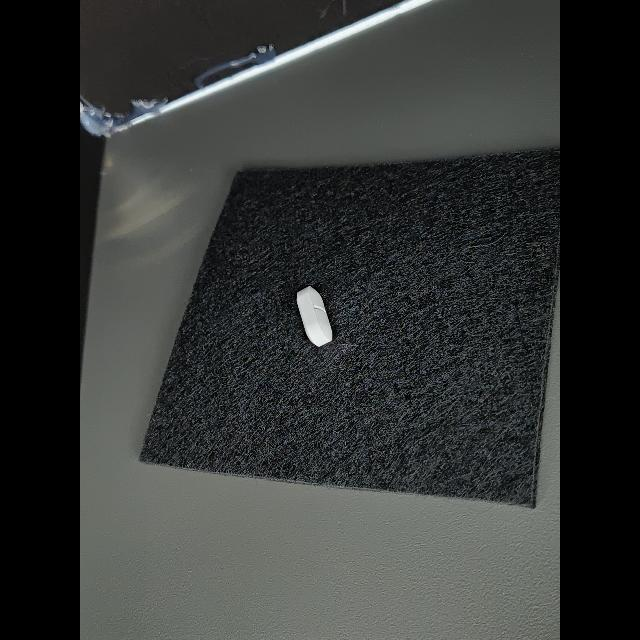Intact Pill: (297, 286, 332, 347)
